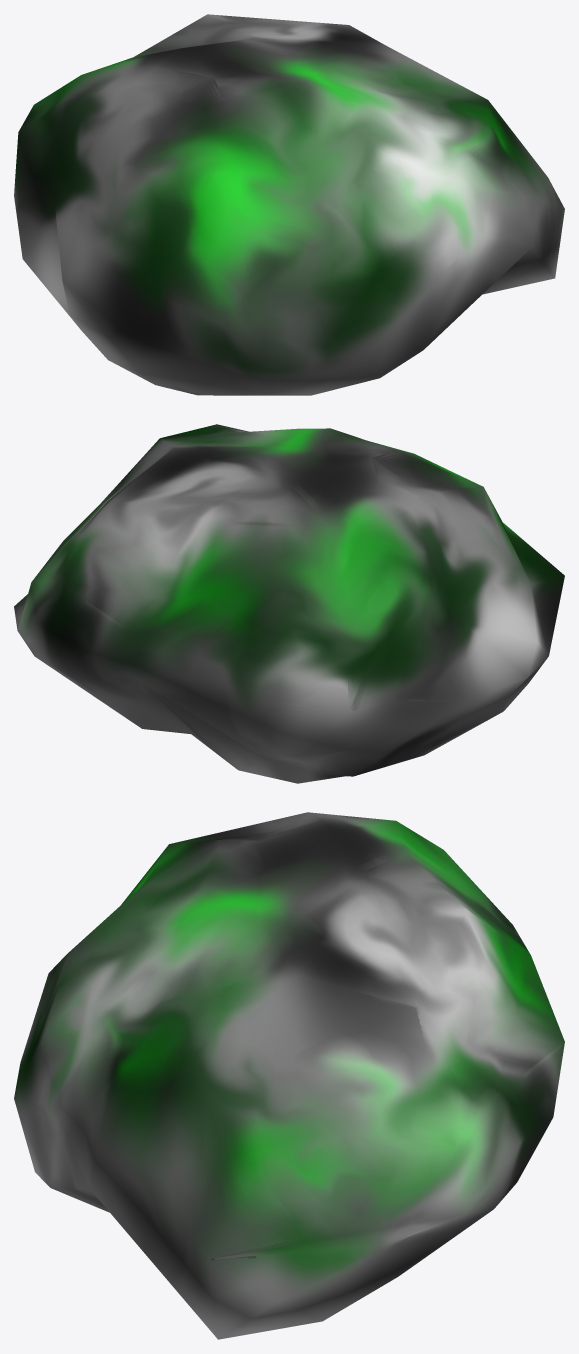
The model's file is StonesSmooth2.fbx.
3 views of the same model, one above another, from view 1: azimuth 30°, elevation 25°; view 2: azimuth 150°, elevation 25°; view 3: azimuth 270°, elevation 25° (orthographic). The views are drawn at different scales.
Parts seen in each view (by area): view 1: Stone2.001; view 2: Stone2.001; view 3: Stone2.001.
Boxes of the visible parts, left/top/right/bottom form: Stone2.001: left=14, top=14, right=564, bottom=395; Stone2.001: left=14, top=424, right=564, bottom=783; Stone2.001: left=14, top=812, right=564, bottom=1339.
Bounding box in the file's own units: 306 × 179 × 249.
